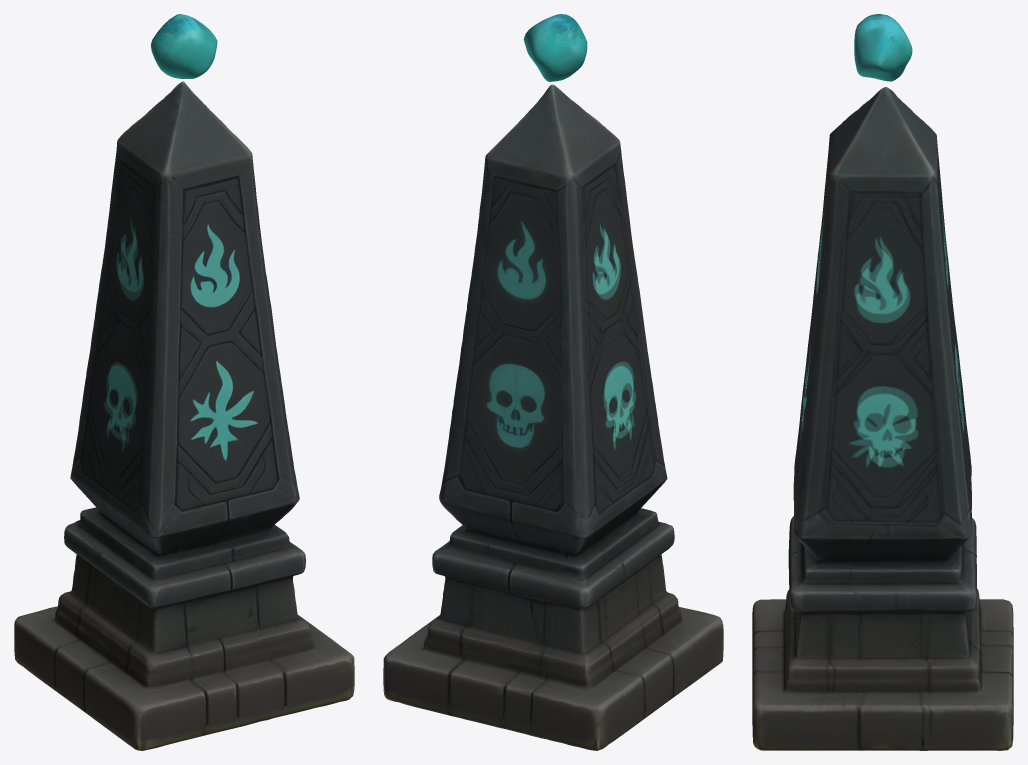
The model's file is puzzle_obelisk.glb.
3 renders of one model, left to right at view 1: azimuth 30°, elevation 25°; view 2: azimuth 150°, elevation 25°; view 3: azimuth 270°, elevation 25°, orthographic. The views are drawn at different scales.
Size of the model in its own units: 0.6983 by 2 by 0.6982.
1 material, 1 textured.
